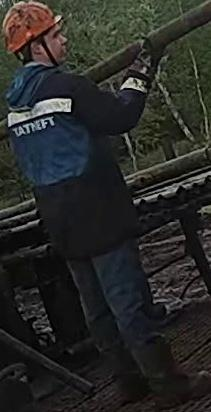gloves: (123, 37, 163, 97)
helmet: (1, 0, 62, 53)
vest: (5, 63, 140, 258)
